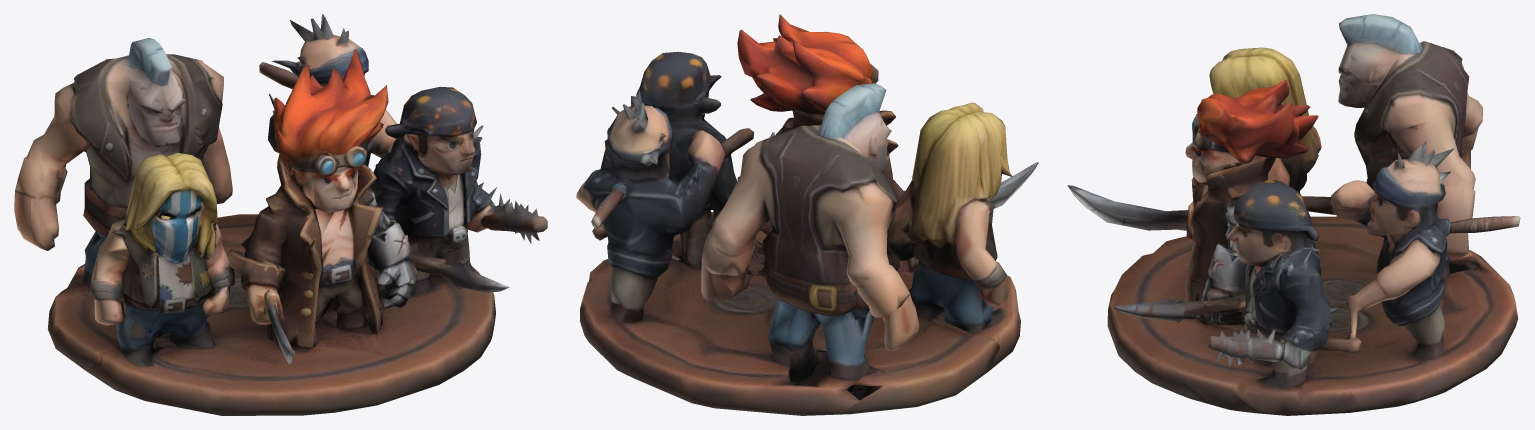
Rendered from crew-punk.opt.glb.
3 views of the same model, side by side, from view 1: azimuth 30°, elevation 25°; view 2: azimuth 150°, elevation 25°; view 3: azimuth 270°, elevation 25° (orthographic). The views are drawn at different scales.
Bounding box in the file's own units: 2 × 1.31 × 1.98.
1 material, 1 textured.
